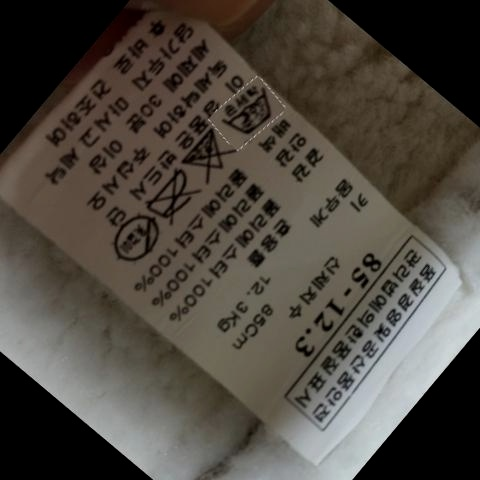DN_bleach: (183, 130, 238, 174)
DN_iron: (146, 171, 200, 223)
hand_wash: (219, 82, 281, 137)
line_dry_in_shade: (112, 216, 166, 260)
